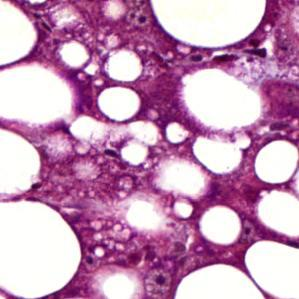steatosis: (255, 140, 299, 187), (96, 87, 143, 122), (199, 207, 243, 239), (105, 50, 144, 84)
